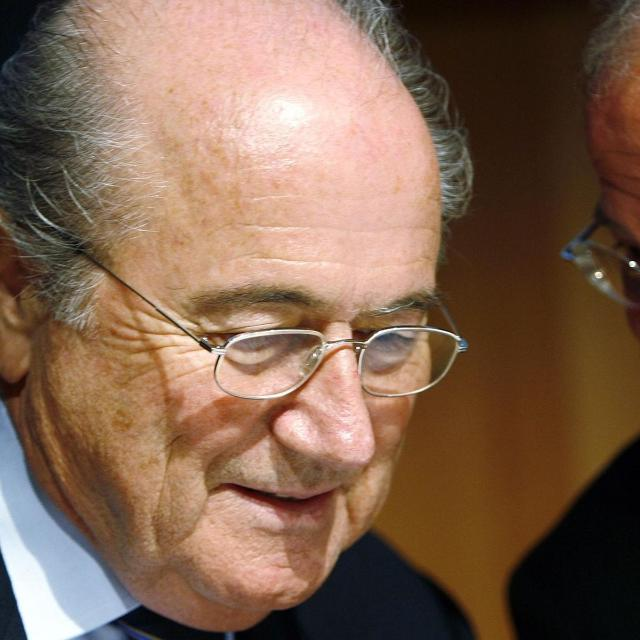crows_feet: (120, 306, 196, 354)
forehead: (250, 249, 326, 273), (242, 209, 298, 237)
masseter: (147, 446, 185, 516)
